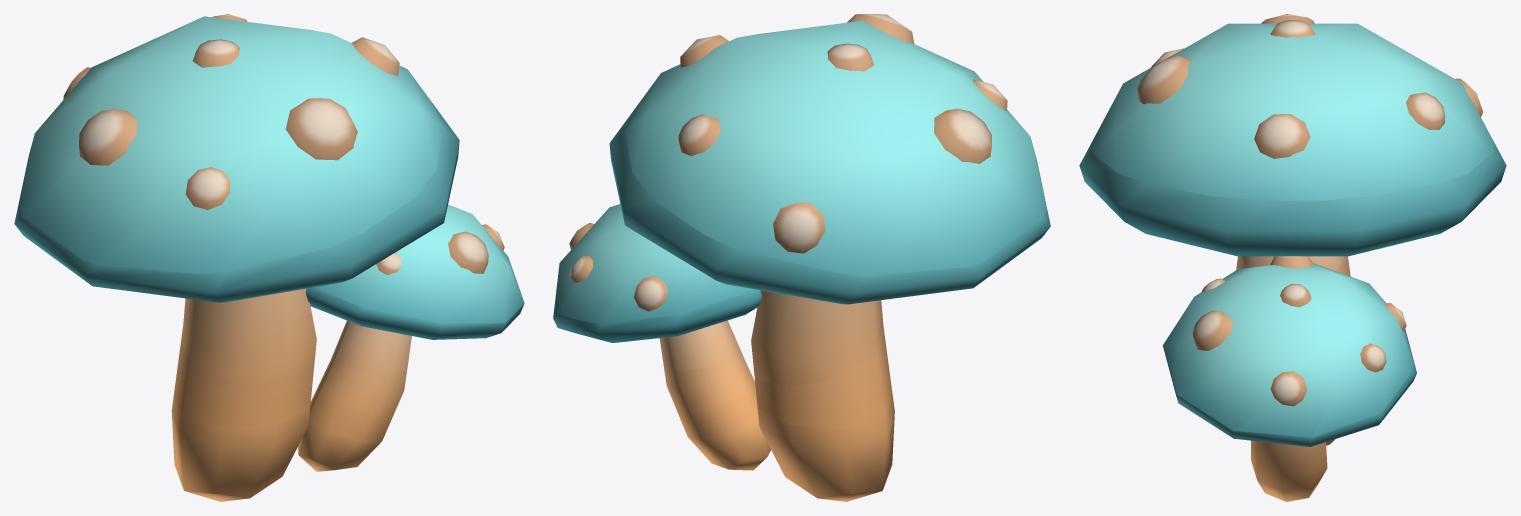
Rendered from Mushroom.fbx.
3 views of the same model, side by side, from view 1: azimuth 30°, elevation 25°; view 2: azimuth 150°, elevation 25°; view 3: azimuth 270°, elevation 25° (orthographic). The views are drawn at different scales.
Visible parts, largest first — view 1: Mushroom; view 2: Mushroom; view 3: Mushroom.
Part boxes in pixels (box(x1,y1,x2,y2)): Mushroom: box(14, 14, 524, 501); Mushroom: box(553, 14, 1050, 501); Mushroom: box(1079, 14, 1506, 501).
Size of the model in its own units: 1.52 by 1.33 by 1.47.
